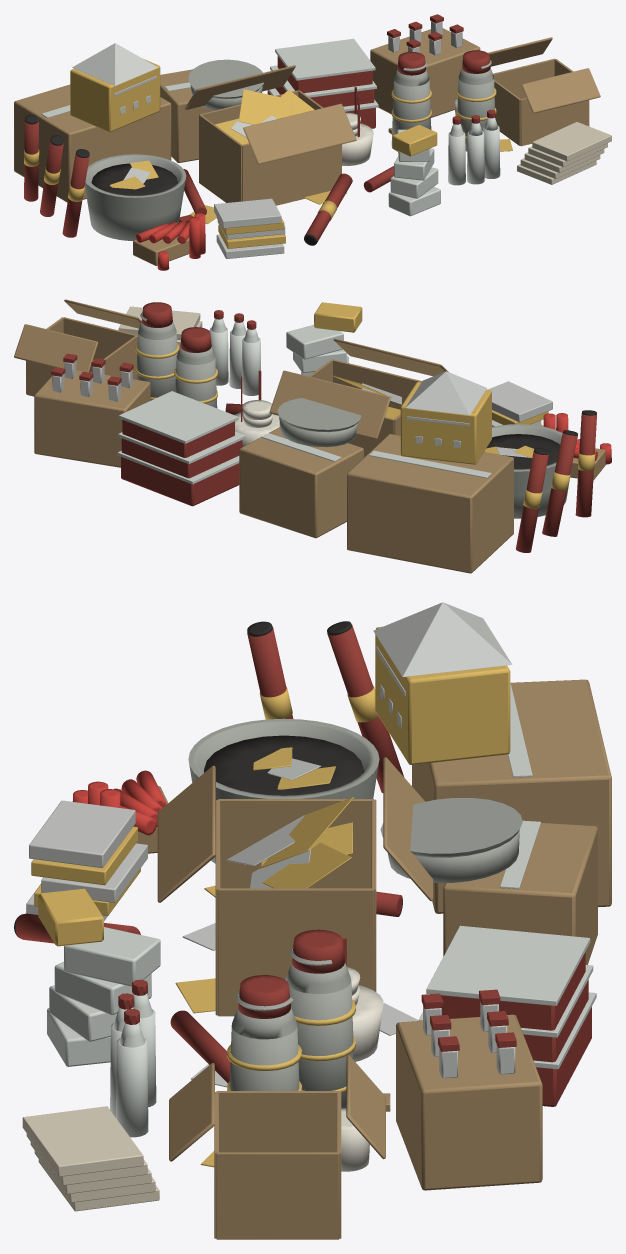
The model's file is LOC_DongDoCungTang.glb.
3 renders of one model, top to bottom at view 1: azimuth 30°, elevation 25°; view 2: azimuth 150°, elevation 25°; view 3: azimuth 270°, elevation 25°, orthographic. The views are drawn at different scales.
Visible parts, largest first — view 1: DongDoCungTang; view 2: DongDoCungTang; view 3: DongDoCungTang.
Boxes of the visible parts, <box> form: DongDoCungTang: <box>14,14,611,270</box>; DongDoCungTang: <box>14,299,611,573</box>; DongDoCungTang: <box>14,602,611,1239</box>.
Size of the model in its own units: 1.94 by 0.522 by 1.07.
